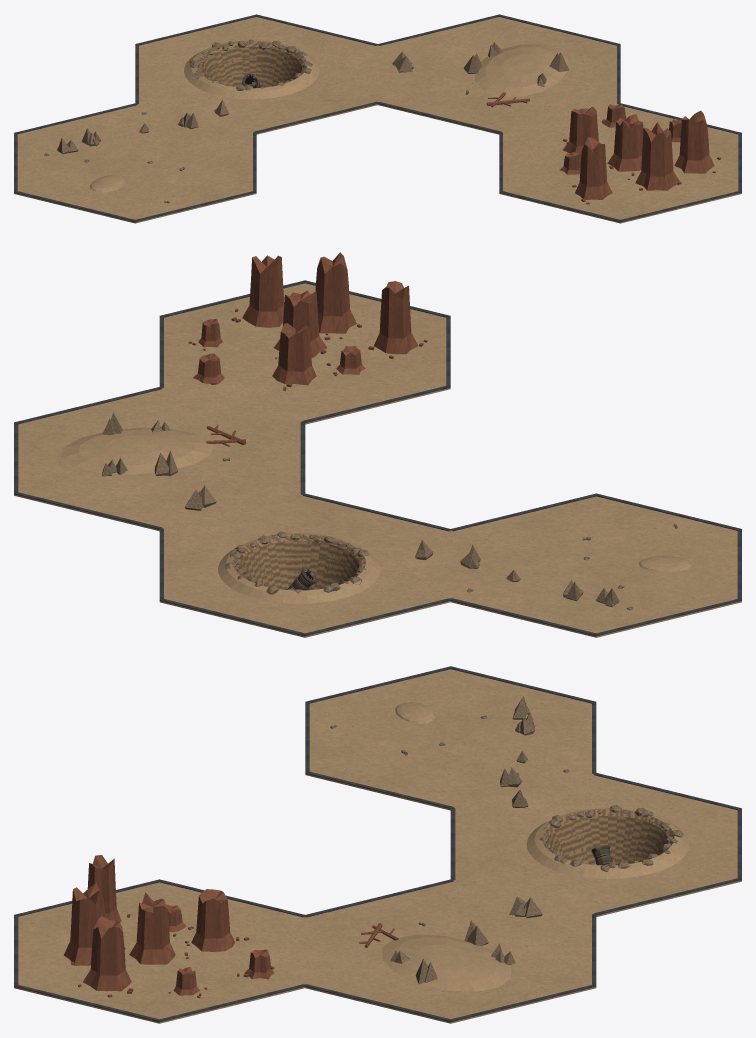
The model's file is WasteHex_ZigzagM.glb.
3 renders of one model, top to bottom at view 1: azimuth 30°, elevation 25°; view 2: azimuth 150°, elevation 25°; view 3: azimuth 270°, elevation 25°, orthographic. The views are drawn at different scales.
Parts seen in each view (by area): view 1: WasteHex_ZigzagM_Ground, WasteHex_ZigzagM_Prop_Petrified, WasteHex_ZigzagM_GroundTrim, WasteHex_ZigzagM_Prop_Drift, WasteHex_ZigzagM_Prop_PitWall, WasteHex_ZigzagM_Prop_PitRim, WasteHex_ZigzagM_Prop_Salt, WasteHex_ZigzagM_Prop_Rock; view 2: WasteHex_ZigzagM_Ground, WasteHex_ZigzagM_Prop_Petrified, WasteHex_ZigzagM_GroundTrim, WasteHex_ZigzagM_Prop_Drift, WasteHex_ZigzagM_Prop_PitWall, WasteHex_ZigzagM_Prop_PitRim, WasteHex_ZigzagM_Prop_Salt, WasteHex_ZigzagM_Prop_Rock; view 3: WasteHex_ZigzagM_Ground, WasteHex_ZigzagM_Prop_Petrified, WasteHex_ZigzagM_GroundTrim, WasteHex_ZigzagM_Prop_Drift, WasteHex_ZigzagM_Prop_PitWall, WasteHex_ZigzagM_Prop_PitRim, WasteHex_ZigzagM_Prop_Salt, WasteHex_ZigzagM_Prop_Rock.
Part boxes in pixels (x1,y1,x2,y2): WasteHex_ZigzagM_Ground: (14, 17, 741, 223); WasteHex_ZigzagM_Prop_Petrified: (559, 104, 720, 204); WasteHex_ZigzagM_GroundTrim: (14, 14, 741, 222); WasteHex_ZigzagM_Prop_Drift: (90, 44, 567, 192); WasteHex_ZigzagM_Prop_PitWall: (197, 41, 306, 87); WasteHex_ZigzagM_Prop_PitRim: (184, 40, 319, 99); WasteHex_ZigzagM_Prop_Salt: (56, 41, 568, 154); WasteHex_ZigzagM_Prop_Rock: (190, 39, 312, 90); WasteHex_ZigzagM_Ground: (14, 283, 741, 637); WasteHex_ZigzagM_Prop_Petrified: (188, 252, 427, 390); WasteHex_ZigzagM_GroundTrim: (14, 280, 741, 636); WasteHex_ZigzagM_Prop_Drift: (61, 427, 691, 572); WasteHex_ZigzagM_Prop_PitWall: (233, 534, 365, 589); WasteHex_ZigzagM_Prop_PitRim: (218, 533, 380, 603); WasteHex_ZigzagM_Prop_Salt: (102, 412, 619, 606); WasteHex_ZigzagM_Prop_Rock: (225, 531, 368, 594); WasteHex_ZigzagM_Ground: (14, 669, 741, 1023); WasteHex_ZigzagM_Prop_Petrified: (64, 855, 274, 998); WasteHex_ZigzagM_GroundTrim: (14, 666, 741, 1022); WasteHex_ZigzagM_Prop_Drift: (382, 702, 511, 991); WasteHex_ZigzagM_Prop_PitWall: (541, 809, 674, 864); WasteHex_ZigzagM_Prop_PitRim: (526, 808, 689, 878); WasteHex_ZigzagM_Prop_Salt: (390, 696, 542, 983); WasteHex_ZigzagM_Prop_Rock: (539, 805, 683, 871).
Size of the model in its own units: 30 by 4.54 by 25.98.
11 materials, 11 textured.
